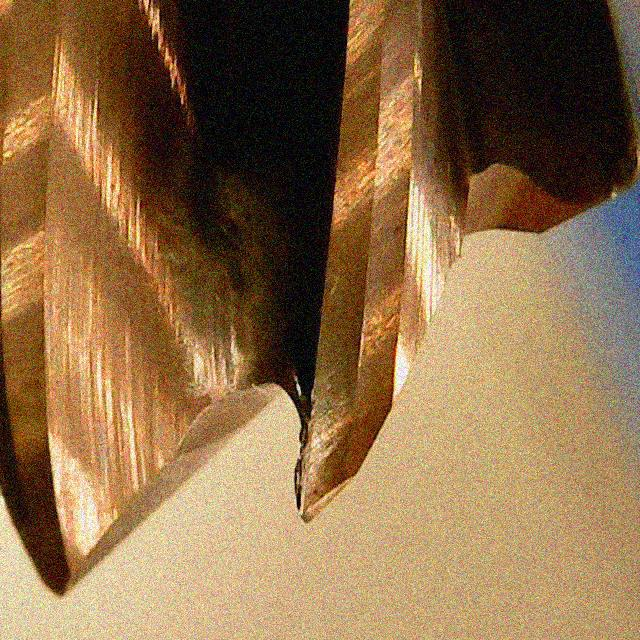Tool-wear-class-1: (270, 314, 405, 532)
